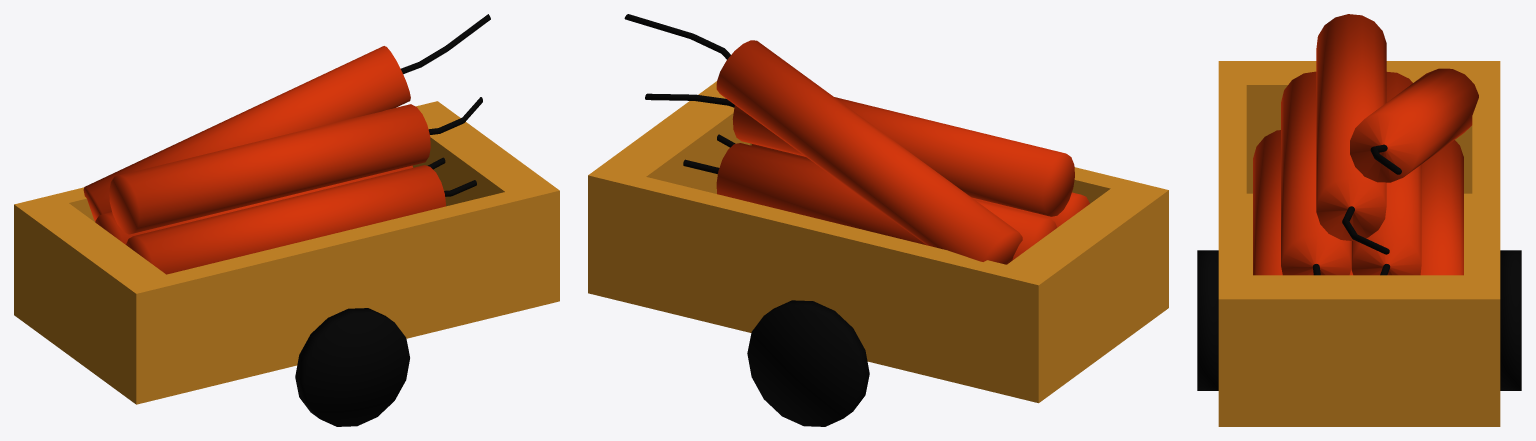
File: dyna.fbx
3 views of the same model, side by side, from view 1: azimuth 30°, elevation 25°; view 2: azimuth 150°, elevation 25°; view 3: azimuth 270°, elevation 25° (orthographic). The views are drawn at different scales.
Parts seen in each view (by area): view 1: Cube, Circle.005, Circle.003, Circle.006, Circle.008, Circle.004; view 2: Cube, Circle.006, Circle.005, Circle.007, Circle.004, Circle.003; view 3: Cube, Circle.005, Circle.006, Circle.003, Circle.004, Circle, Circle.002, Circle.008, Circle.007.
Part boxes in pixels (x1,y1,x2,y2): Cube: (14, 101, 559, 404); Circle.005: (109, 97, 482, 234); Circle.003: (126, 165, 476, 274); Circle.006: (83, 14, 490, 221); Circle.008: (295, 308, 409, 426); Circle.004: (95, 157, 445, 244); Cube: (588, 81, 1168, 403); Circle.006: (624, 14, 1022, 264); Circle.005: (645, 93, 1074, 216); Circle.007: (747, 300, 869, 426); Circle.004: (683, 143, 1057, 260); Circle.003: (717, 134, 1089, 227); Cube: (1218, 61, 1500, 426); Circle.005: (1316, 14, 1389, 254); Circle.006: (1350, 68, 1478, 182); Circle.003: (1281, 71, 1351, 275); Circle.004: (1351, 72, 1421, 275); Circle: (1420, 140, 1463, 275); Circle.002: (1253, 130, 1282, 275); Circle.008: (1197, 250, 1218, 390); Circle.007: (1500, 250, 1521, 390).
Bounding box in the file's own units: 81.63 × 53.19 × 46.
